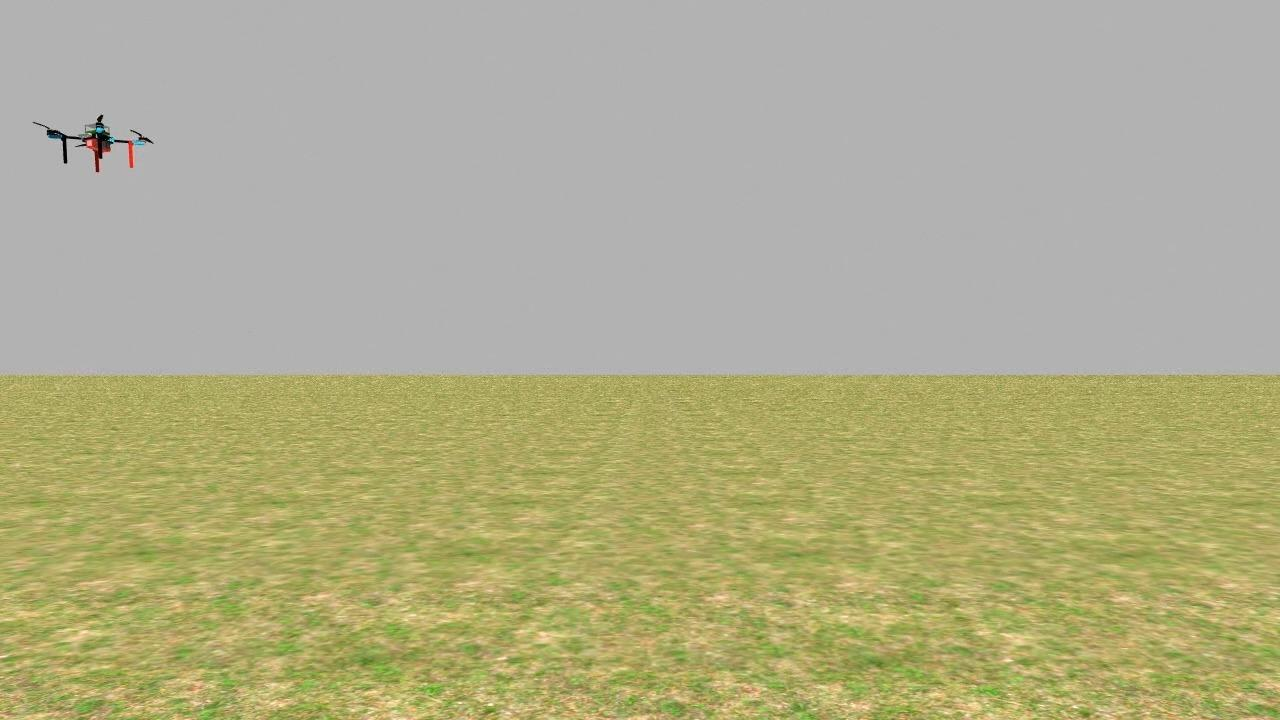UAV: (31, 95, 160, 192)
